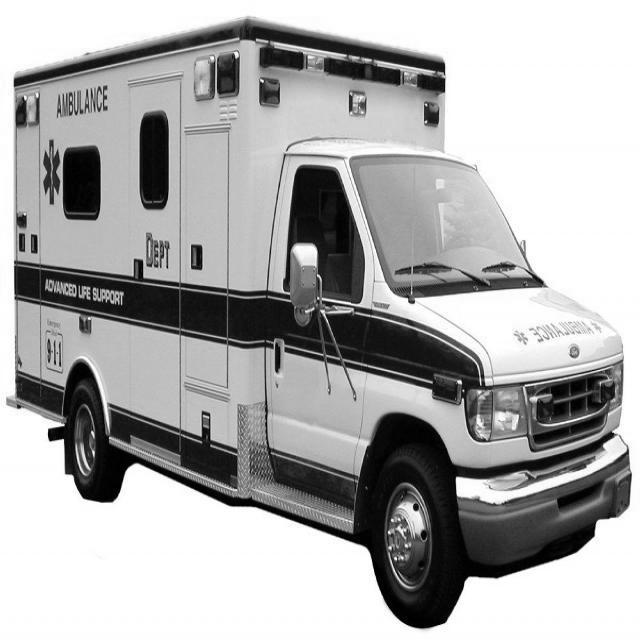Ambulance: (11, 15, 633, 631)
